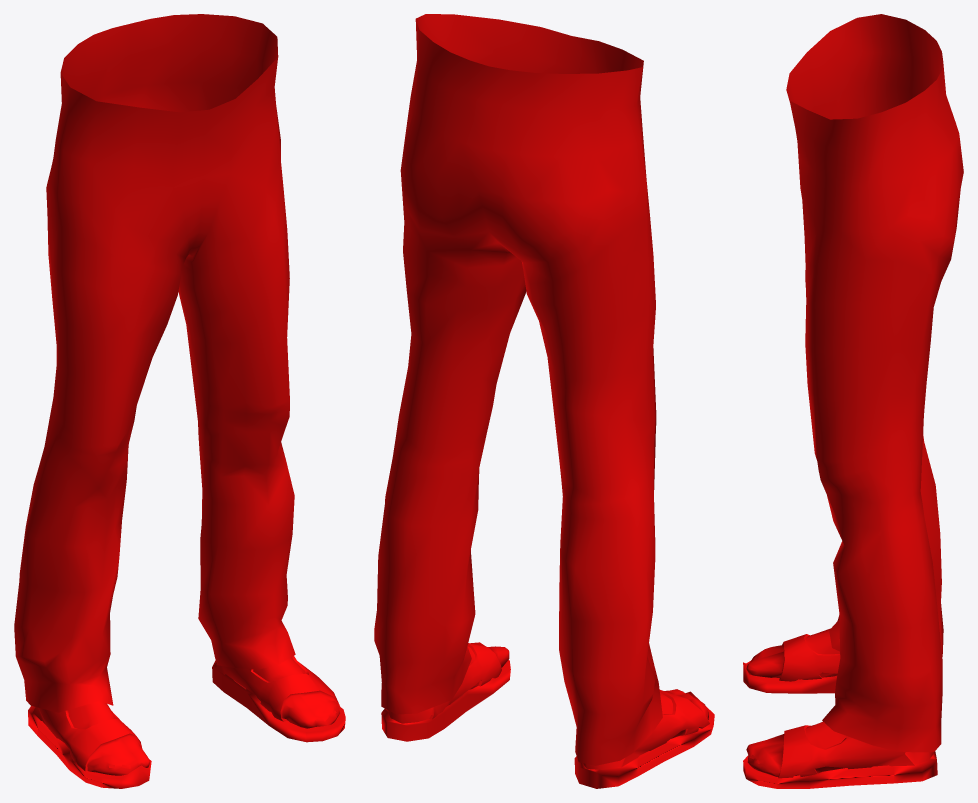
Rendered from lowr_000_r_high.FBX.
The picture shows the model from 3 angles, left to right: view 1: azimuth 30°, elevation 25°; view 2: azimuth 150°, elevation 25°; view 3: azimuth 270°, elevation 25°; orthographic projection. The views are drawn at different scales.
Parts seen in each view (by area): view 1: lowr_000_r_high; view 2: lowr_000_r_high; view 3: lowr_000_r_high.
Part boxes in pixels (x1,y1,x2,y2): lowr_000_r_high: (14, 14, 345, 788); lowr_000_r_high: (374, 14, 714, 788); lowr_000_r_high: (743, 14, 963, 788).
Bounding box in the file's own units: 0.4517 × 1.1 × 0.3296.
